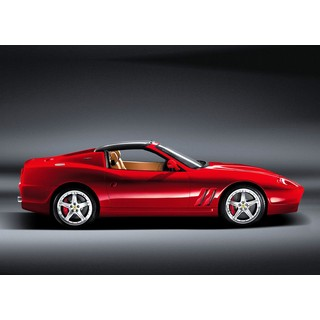car: (16, 141, 307, 226)
